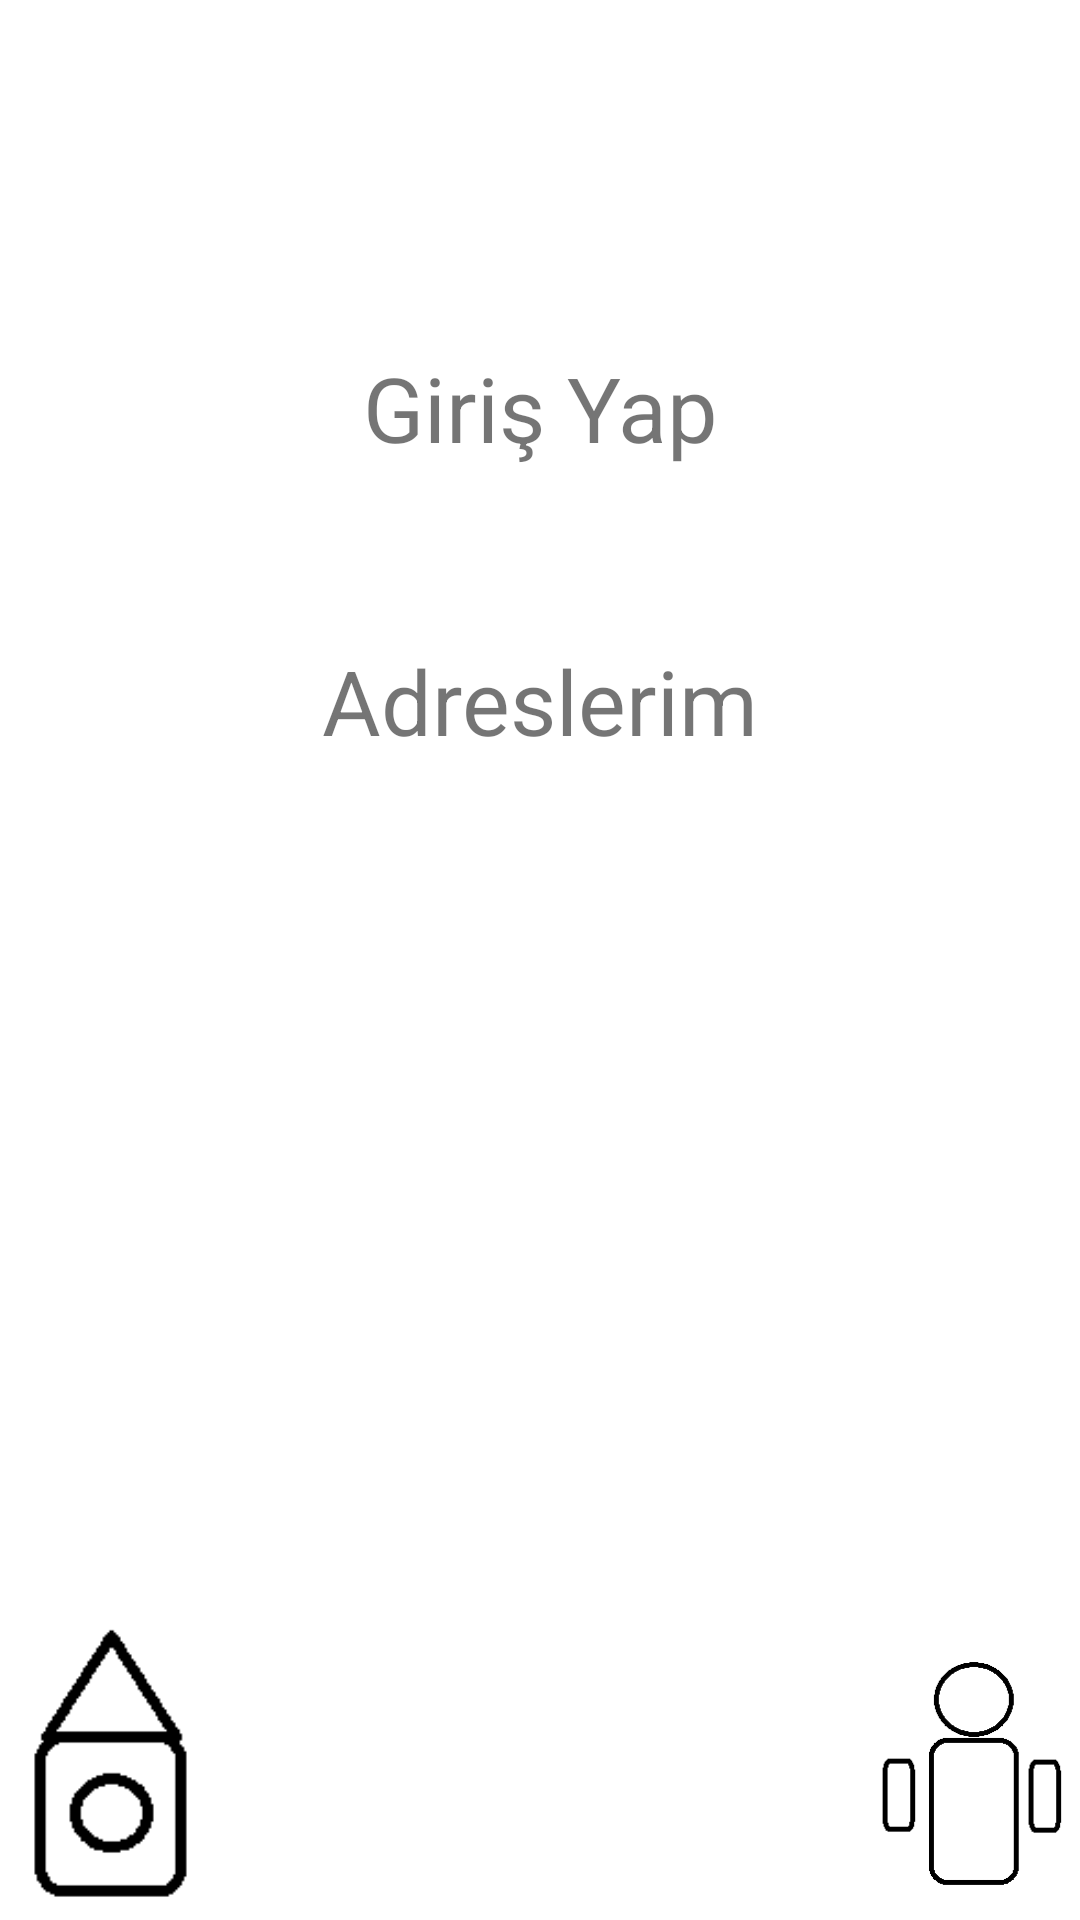

Icon click points for this 1080x1920 phone screenshot, format [x,y]:
homeimage: [110,1763]
profileimage: [972,1773]
